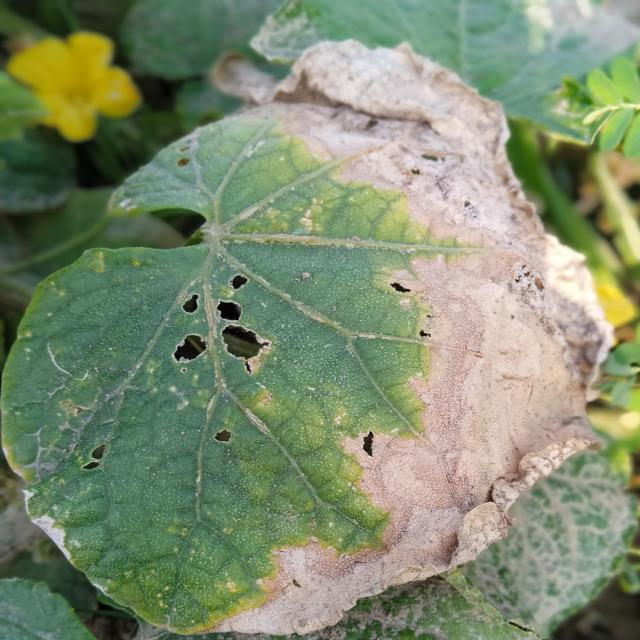cucumber_gummy: (0, 37, 626, 640)
